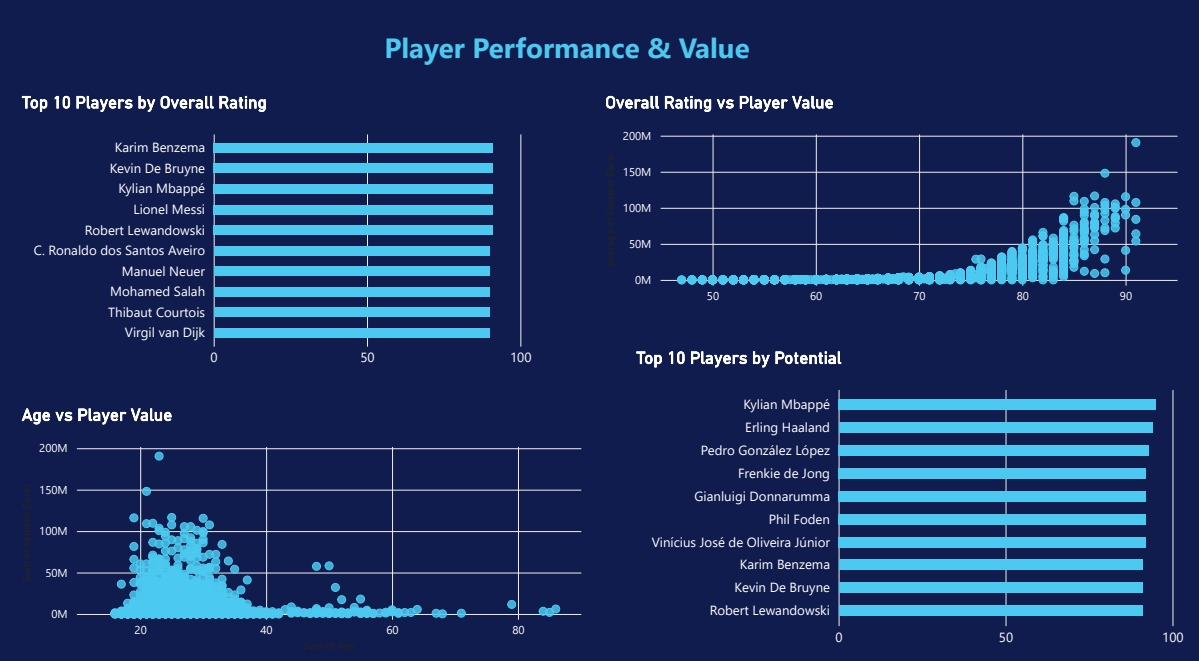

Layout of this report page (visuals, bound fields, positions):
{"tool":"powerbi","page":{"name":"Page 2","canvas":[1280,720],"ordinal":1},"visuals":[{"type":"shape","box":[372.3,0,459.5,111.9],"z":0},{"type":"clusteredBarChart","title":"Top 10 Players by Overall Rating","fields":{"Category":["FIFA23_Cleaned.Full Name"],"Y":["Avg(FIFA23_Cleaned.Overall)"]},"box":[9.6,90.4,571.1,325.3],"z":1000},{"type":"scatterChart","title":"Overall Rating vs Player Value","fields":{"X":["Avg(FIFA23_Cleaned.Overall)"],"Y":["Avg(FIFA23_Cleaned.Value(in Euro))"],"Category":["FIFA23_Cleaned.Full Name"]},"box":[626.5,90.4,643.4,257.8],"z":2000},{"type":"scatterChart","title":"Age vs Player Value","fields":{"X":["Sum(FIFA23_Cleaned.Age)"],"Y":["Sum(FIFA23_Cleaned.Value(in Euro))"],"Category":["FIFA23_Cleaned.Full Name"]},"box":[9.6,420.5,630.1,290.4],"z":3000},{"type":"clusteredBarChart","title":"Top 10 Players by Potential","fields":{"Y":["Max(FIFA23_Cleaned.Potential)"],"Category":["FIFA23_Cleaned.Full Name"]},"box":[659,360.2,610.8,350.6],"z":4000}]}

Visuals, with their boxes in screenshot pixels (x1, y1, x2, y2), scaled from the page's 1280x720 canvas onto the 1199x661 screenshot:
shape: crop(349, 0, 779, 103)
"Top 10 Players by Overall Rating" clusteredBarChart: crop(9, 83, 544, 382)
"Overall Rating vs Player Value" scatterChart: crop(587, 83, 1190, 320)
"Age vs Player Value" scatterChart: crop(9, 386, 599, 653)
"Top 10 Players by Potential" clusteredBarChart: crop(617, 331, 1189, 653)
